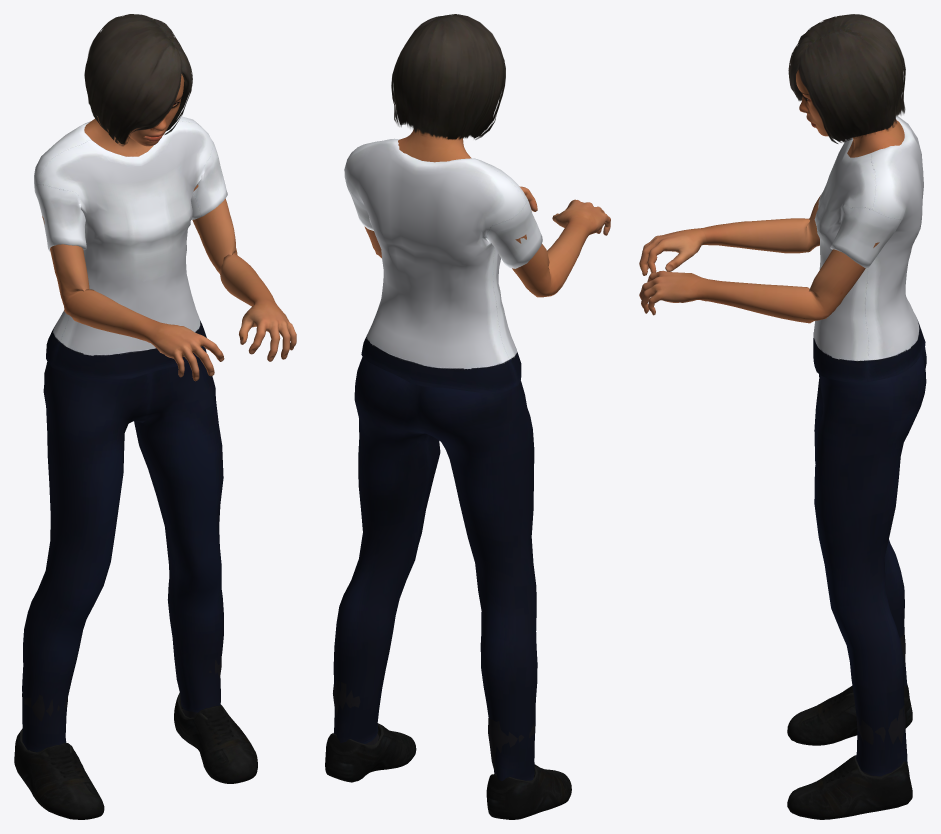
File: g3_counter.glb
The picture shows the model from 3 angles, left to right: view 1: azimuth 30°, elevation 25°; view 2: azimuth 150°, elevation 25°; view 3: azimuth 270°, elevation 25°; orthographic projection.
Parts seen in each view (by area): view 1: g3.female_casualsuit01, g3, g3.bob02, g3.shoes02; view 2: g3.female_casualsuit01, g3.bob02, g3.shoes02, g3; view 3: g3.female_casualsuit01, g3, g3.bob02, g3.shoes02.
Part boxes in pixels (bbox=[...]): g3.female_casualsuit01: bbox=[22, 115, 227, 752]; g3: bbox=[42, 74, 296, 381]; g3.bob02: bbox=[84, 14, 192, 146]; g3.shoes02: bbox=[14, 655, 257, 819]; g3.female_casualsuit01: bbox=[333, 138, 542, 780]; g3.bob02: bbox=[391, 14, 505, 139]; g3.shoes02: bbox=[325, 679, 571, 819]; g3: bbox=[364, 129, 610, 297]; g3.female_casualsuit01: bbox=[813, 115, 926, 776]; g3: bbox=[639, 69, 904, 323]; g3.bob02: bbox=[788, 14, 905, 143]; g3.shoes02: bbox=[787, 631, 912, 819].
Size of the model in its own units: 0.4333 by 1.49 by 0.5127.
Materials: 7 (7 with a texture image).
